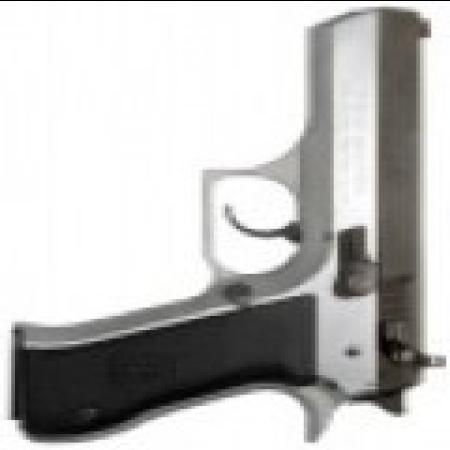Pistol: (8, 3, 446, 439)
